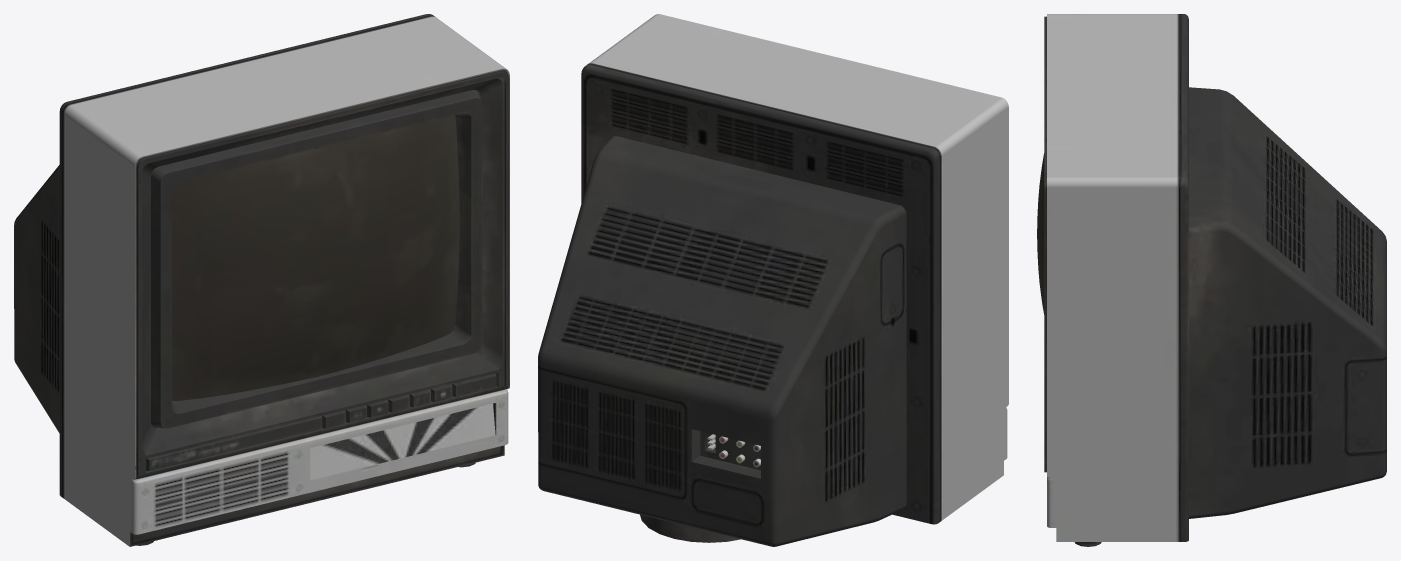
File: wall_monitor.glb
The picture shows the model from 3 angles, left to right: view 1: azimuth 30°, elevation 25°; view 2: azimuth 150°, elevation 25°; view 3: azimuth 270°, elevation 25°; orthographic projection. The views are drawn at different scales.
Parts seen in each view (by area): view 1: television_2_television_2_0; view 2: television_2_television_2_0; view 3: television_2_television_2_0.
Part boxes in pixels (left/top/right/bottom): television_2_television_2_0: left=14, top=14, right=509, bottom=546; television_2_television_2_0: left=538, top=14, right=1008, bottom=546; television_2_television_2_0: left=1037, top=14, right=1386, bottom=546.
Size of the model in its own units: 0.3998 by 0.4114 by 0.3502.
Materials: 1 (1 with a texture image).
